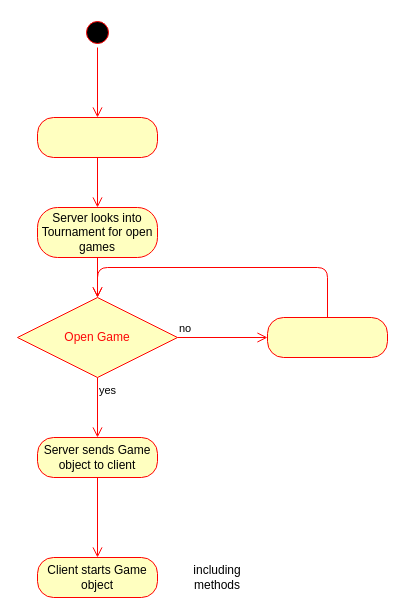
Image size: 405x615. Some labels were removed from this diagram. Here are the shapes that lost their labels. From the top down, the centre of each, then its label:
At (97,137): "Client requests game".
At (327,337): "Client waits for response".
